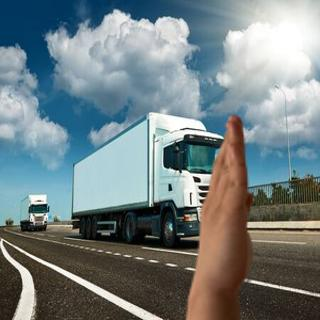RIGHT: (190, 112, 270, 297)
